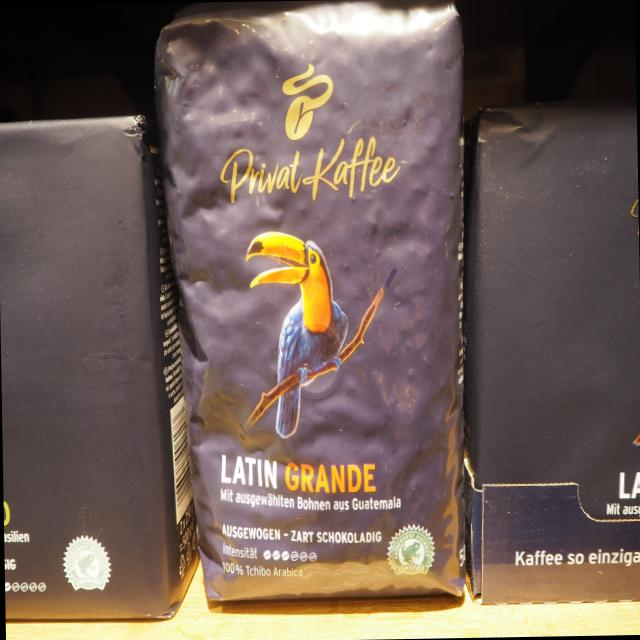LG Bohne: (144, 2, 467, 609)
